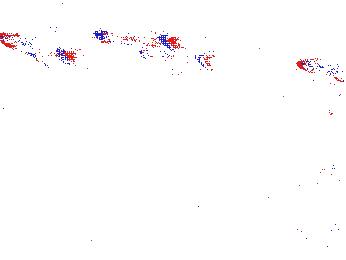X-ray fish: (36, 1, 73, 28)
glassfish: (173, 123, 263, 193)
redtail glassfish: (1, 30, 72, 64), (136, 45, 217, 72), (115, 67, 183, 97), (92, 28, 176, 50), (291, 56, 346, 80)
